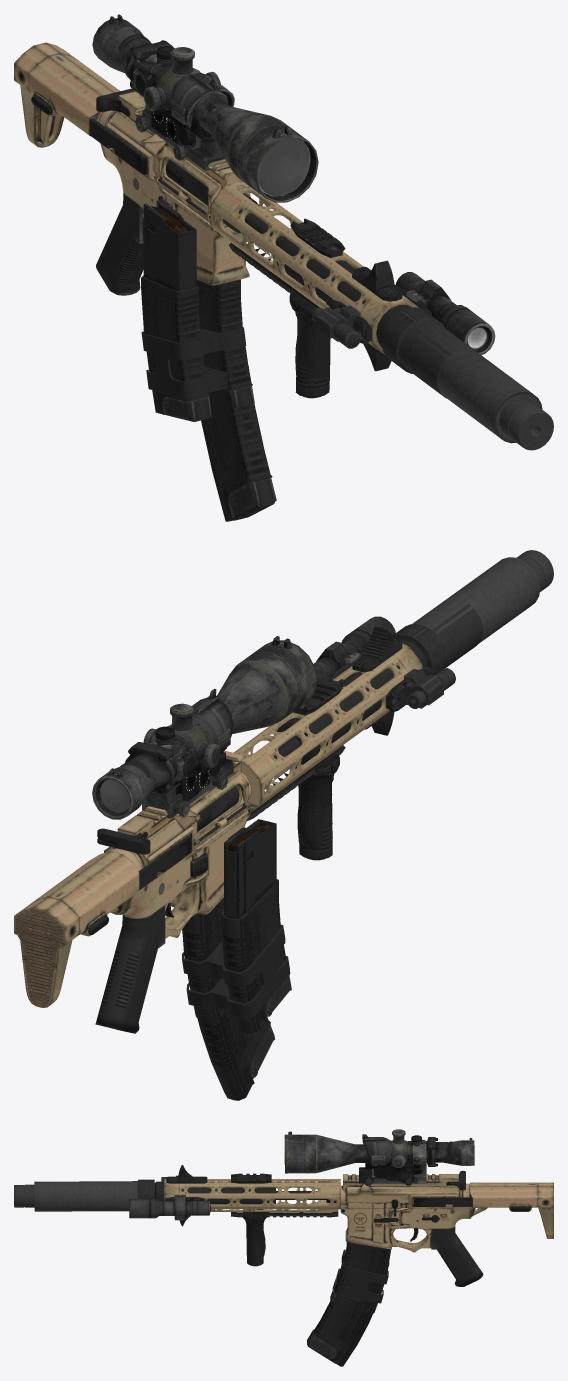
The model's file is assault-rifle.gltf.
3 renders of one model, top to bottom at view 1: azimuth 30°, elevation 25°; view 2: azimuth 150°, elevation 25°; view 3: azimuth 270°, elevation 25°, orthographic. The views are drawn at different scales.
Parts seen in each view (by area): view 1: double_magazine, scope, metal, receiver, barrel, stock, extended_magazine, silencer01, acog, handle, silencer03, flash_light (+7 smaller); view 2: double_magazine, scope, receiver, metal, stock, barrel, handle, silencer01, acog, extended_magazine, silencer03, flash_light (+6 smaller); view 3: receiver, scope, barrel, metal, silencer01, extended_magazine, double_magazine, stock, acog, handle, flash_light, holographic_sight (+6 smaller).
Part boxes in pixels (bbox=[...]): double_magazine: bbox=[141, 200, 249, 421]; scope: bbox=[92, 14, 318, 202]; metal: bbox=[31, 88, 431, 371]; receiver: bbox=[98, 91, 250, 285]; barrel: bbox=[210, 181, 418, 355]; stock: bbox=[14, 42, 120, 159]; extended_magazine: bbox=[201, 357, 276, 521]; silencer01: bbox=[409, 321, 542, 443]; acog: bbox=[118, 34, 234, 170]; handle: bbox=[96, 193, 143, 295]; silencer03: bbox=[381, 307, 450, 398]; flash_light: bbox=[396, 272, 495, 354]; double_magazine: bbox=[182, 819, 291, 1033]; scope: bbox=[92, 636, 317, 819]; receiver: bbox=[104, 750, 251, 938]; metal: bbox=[89, 625, 431, 935]; stock: bbox=[14, 851, 139, 1007]; barrel: bbox=[233, 643, 422, 812]; handle: bbox=[95, 906, 165, 1033]; silencer01: bbox=[412, 557, 540, 643]; acog: bbox=[120, 688, 233, 803]; extended_magazine: bbox=[182, 913, 274, 1100]; silencer03: bbox=[391, 604, 482, 675]; flash_light: bbox=[313, 616, 395, 683]; receiver: bbox=[340, 1174, 469, 1252]; scope: bbox=[284, 1129, 474, 1183]; barrel: bbox=[164, 1179, 340, 1211]; metal: bbox=[154, 1165, 537, 1226]; silencer01: bbox=[34, 1181, 137, 1211]; extended_magazine: bbox=[307, 1222, 391, 1366]; double_magazine: bbox=[332, 1242, 389, 1313]; stock: bbox=[469, 1182, 553, 1238]; acog: bbox=[359, 1134, 452, 1185]; handle: bbox=[431, 1226, 483, 1286]; flash_light: bbox=[129, 1194, 211, 1220]; holographic_sight: bbox=[374, 1154, 414, 1183].
Size of the model in its own units: 0.2229 by 0.7528 by 1.57.
Materials: 14 (14 with a texture image).
